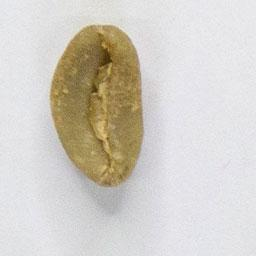longberry: (47, 20, 149, 190)
